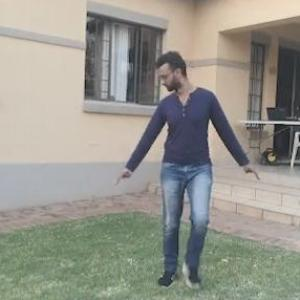land: (120, 59, 252, 285)
